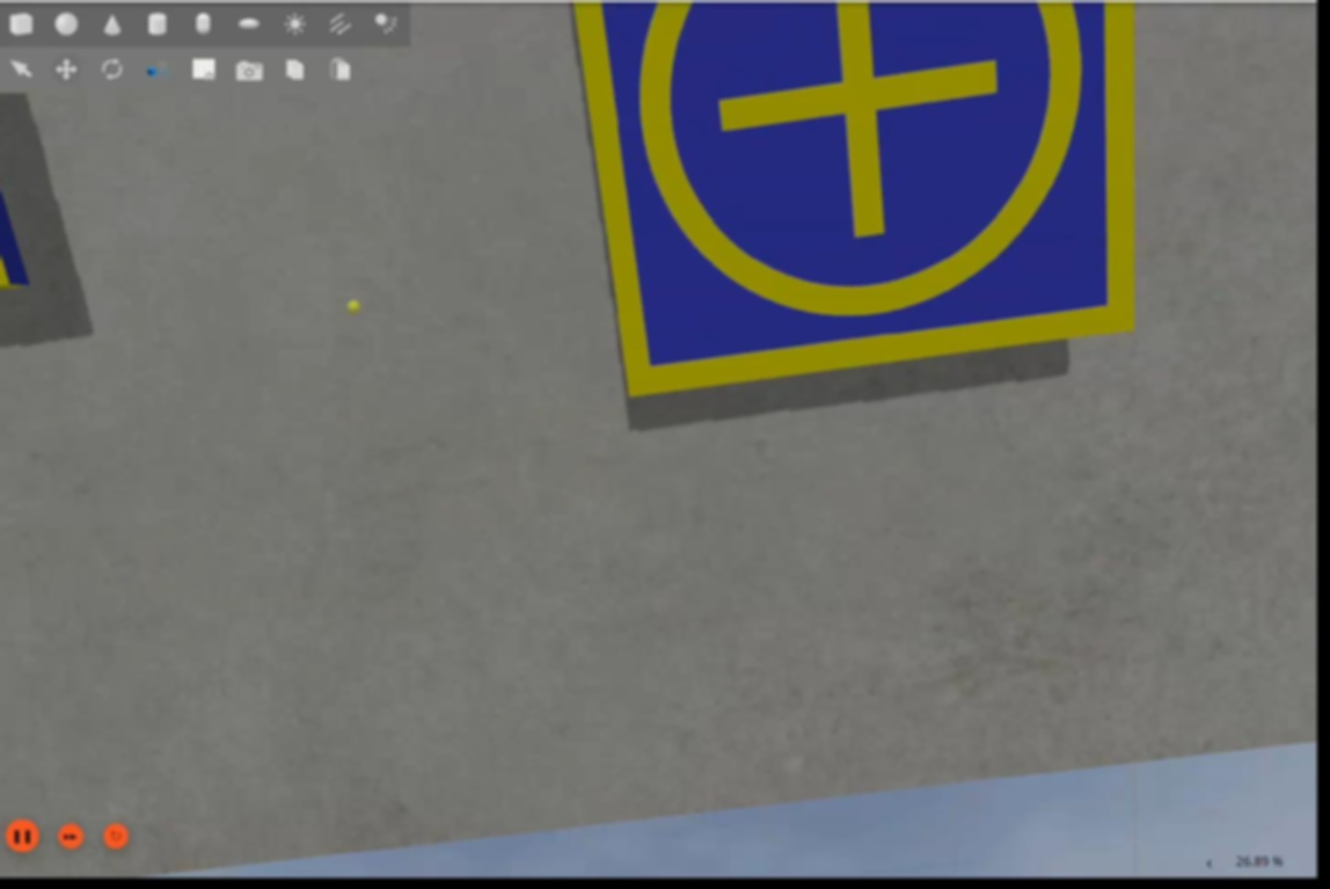small_base: (572, 1, 1138, 404)
